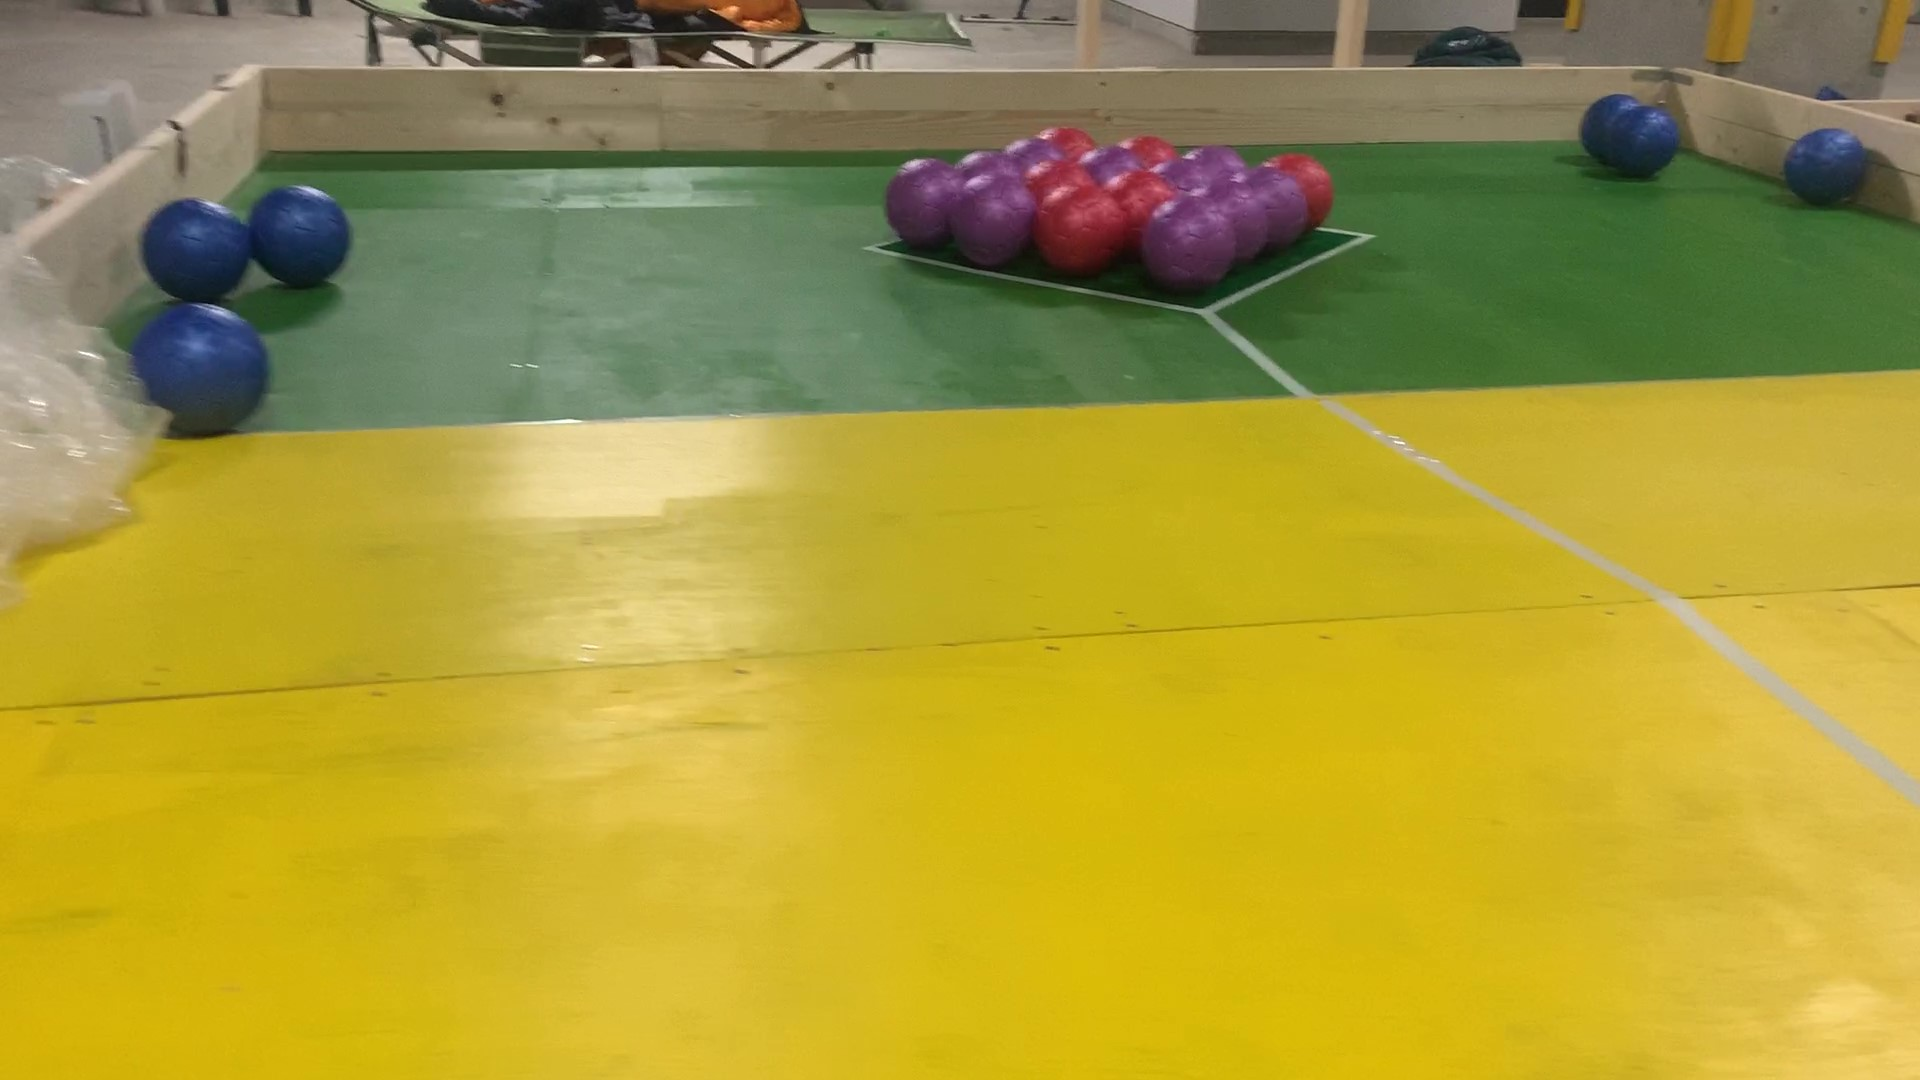blue: (143, 319, 259, 422), (249, 193, 344, 281), (151, 206, 234, 289), (1788, 126, 1861, 198), (1610, 111, 1673, 181), (1582, 95, 1623, 163)
purple: (889, 158, 959, 244), (1155, 206, 1223, 289), (969, 181, 1022, 266), (1256, 173, 1306, 254), (1218, 186, 1261, 271), (1008, 135, 1056, 168), (957, 148, 1007, 178), (1200, 138, 1250, 164), (1089, 146, 1128, 179), (1172, 168, 1208, 189)
red: (1030, 193, 1123, 271), (1268, 158, 1334, 193), (1045, 126, 1098, 163), (1128, 133, 1178, 170), (1115, 173, 1168, 203), (1031, 170, 1095, 189)
